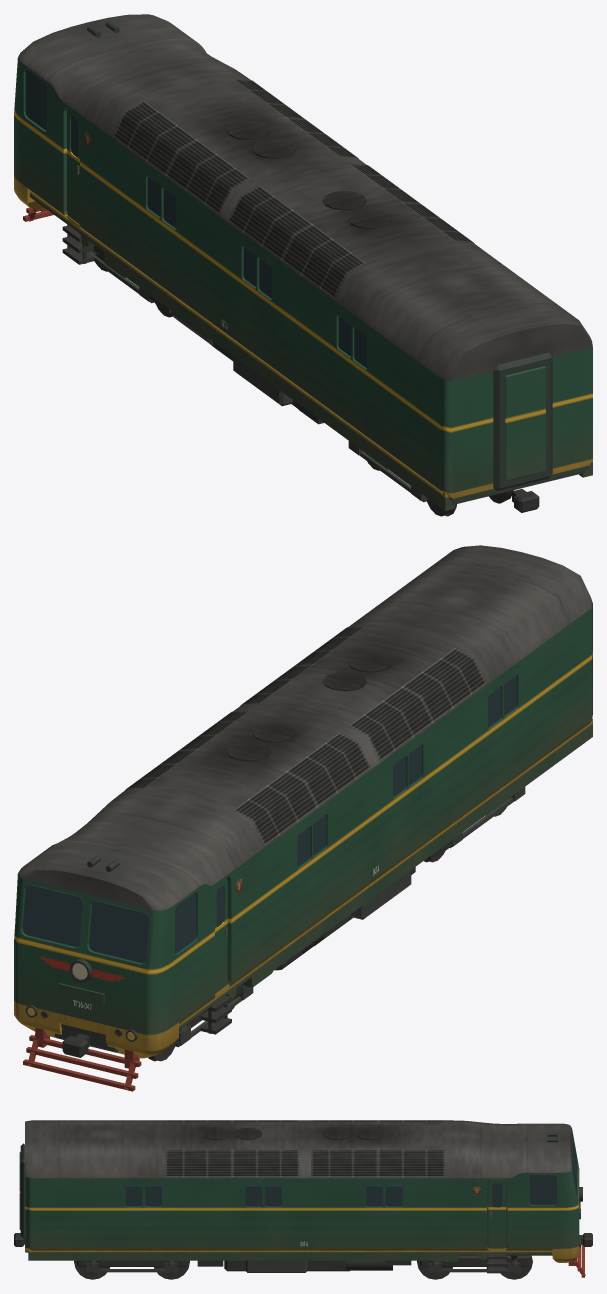
The model's file is sakhalin_tg16.gltf.
3 renders of one model, top to bottom at view 1: azimuth 30°, elevation 25°; view 2: azimuth 150°, elevation 25°; view 3: azimuth 270°, elevation 25°, orthographic. The views are drawn at different scales.
Visible parts, largest first — view 1: ТГ16; view 2: ТГ16; view 3: ТГ16.
Boxes of the visible parts, box(x1,y1,x2,y2) form: ТГ16: box(14, 14, 592, 516); ТГ16: box(14, 545, 592, 1091); ТГ16: box(14, 1120, 592, 1279).
Bounding box in the file's own units: 2.97 × 4.04 × 15.45.
Materials: 1 (1 with a texture image).
